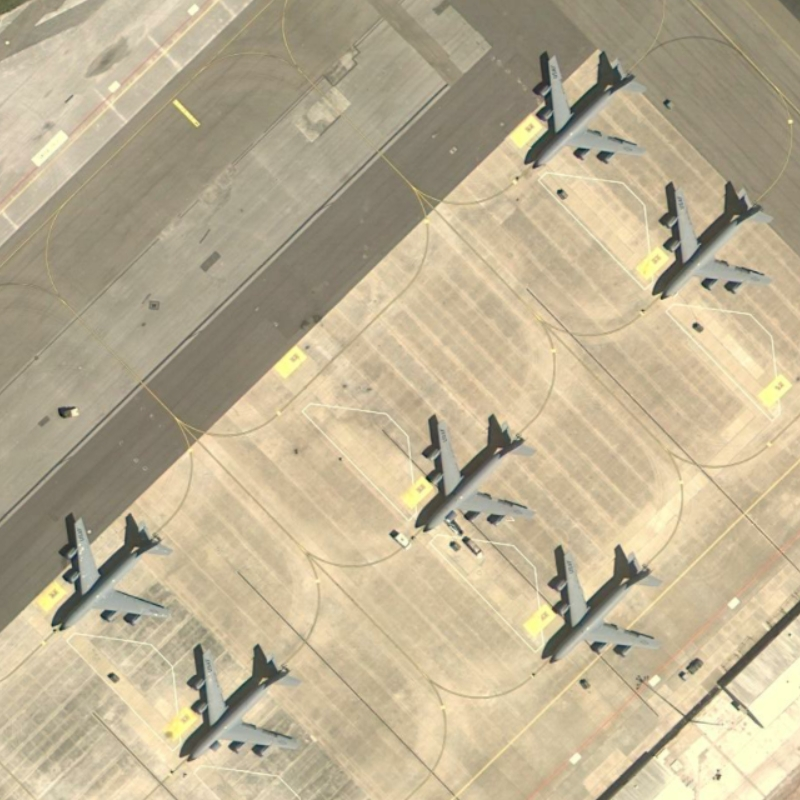A14: (51, 507, 177, 636), (535, 542, 665, 665), (183, 636, 304, 767), (412, 408, 535, 535), (647, 179, 775, 301), (524, 51, 649, 174)
